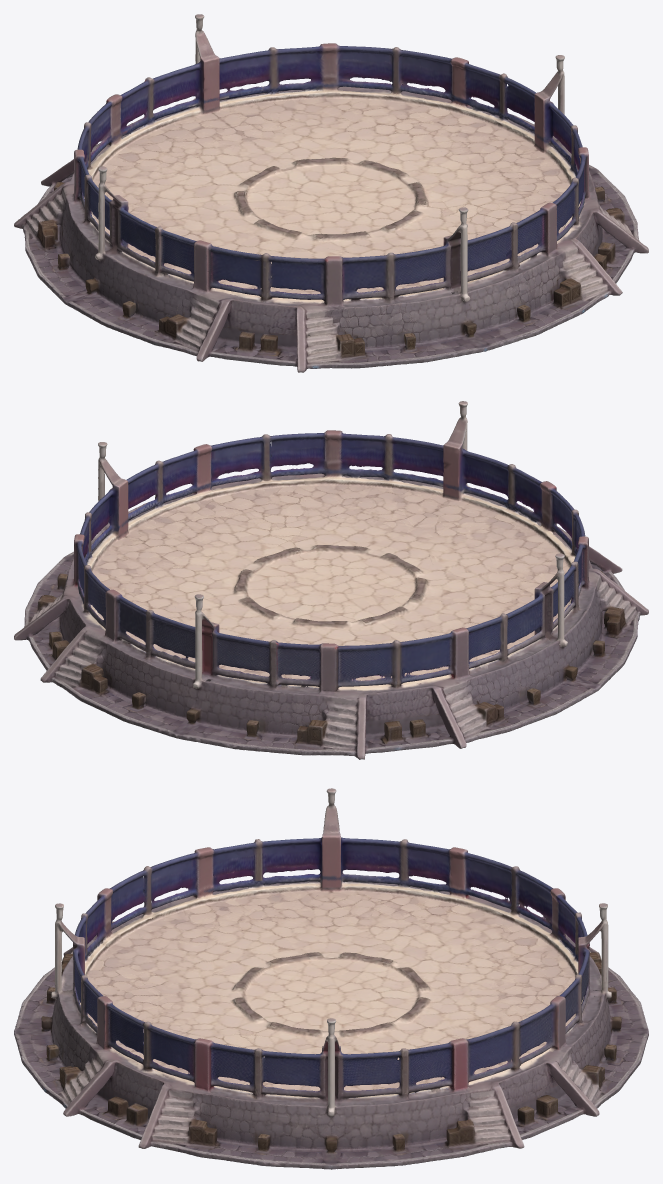
File: areana.glb
The picture shows the model from 3 angles, top to bottom: view 1: azimuth 30°, elevation 25°; view 2: azimuth 150°, elevation 25°; view 3: azimuth 270°, elevation 25°; orthographic projection. The views are drawn at different scales.
Bounding box in the file's own units: 1.9 × 0.4325 × 1.9.
Materials: 1 (1 with a texture image).
